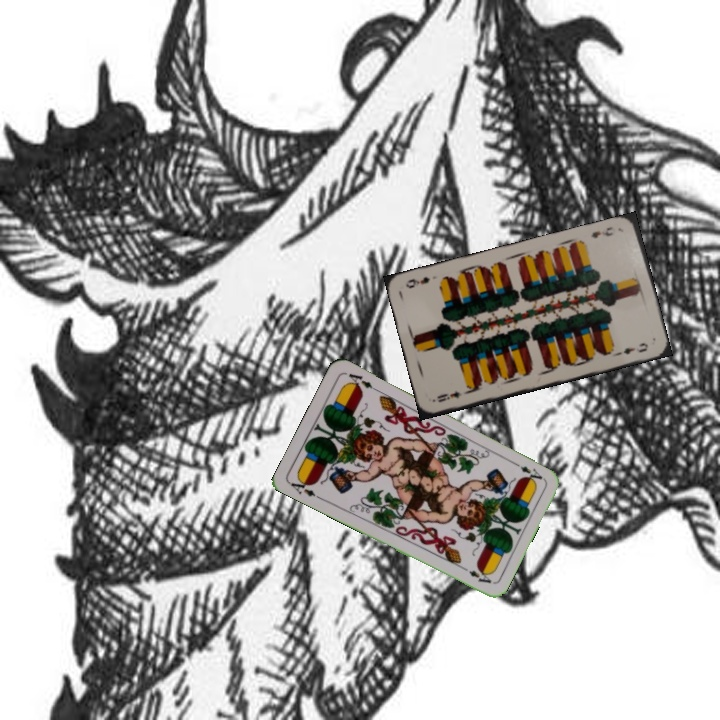E9: (433, 386, 464, 405), (587, 223, 615, 241)
EA: (286, 473, 324, 502), (508, 458, 545, 482)
